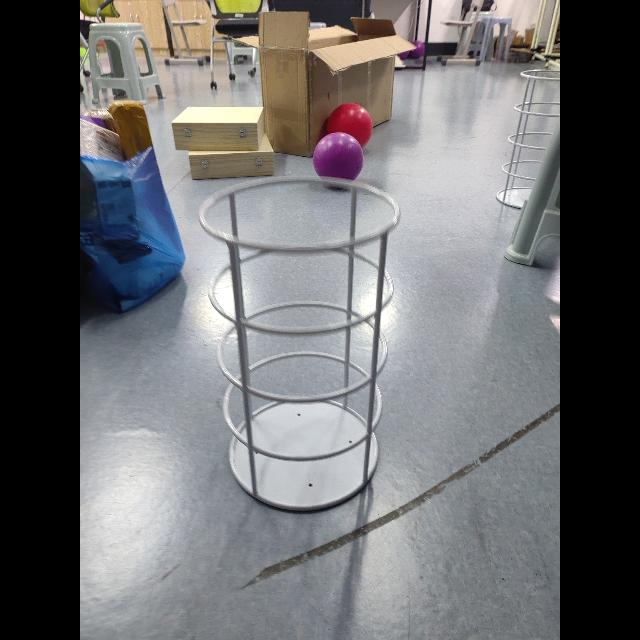S: (193, 172, 404, 518)
